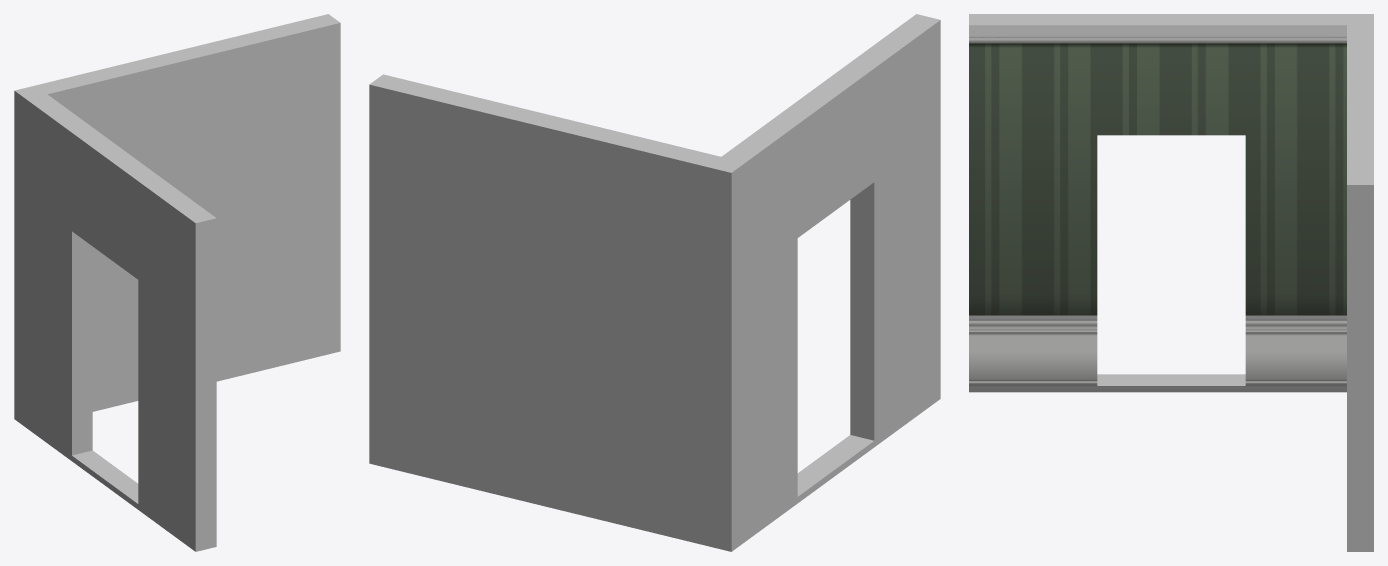
The model's file is wall01_corner_A_door.fbx.
3 views of the same model, side by side, from view 1: azimuth 30°, elevation 25°; view 2: azimuth 150°, elevation 25°; view 3: azimuth 270°, elevation 25° (orthographic). The views are drawn at different scales.
Parts seen in each view (by area): view 1: wall01_corner_A_door; view 2: wall01_corner_A_door; view 3: wall01_corner_A_door.
Boxes of the visible parts, x1,y1,x2,y2 form: wall01_corner_A_door: [14, 14, 340, 551]; wall01_corner_A_door: [369, 14, 940, 551]; wall01_corner_A_door: [969, 14, 1373, 551].
Bounding box in the file's own units: 300 × 300 × 300.
